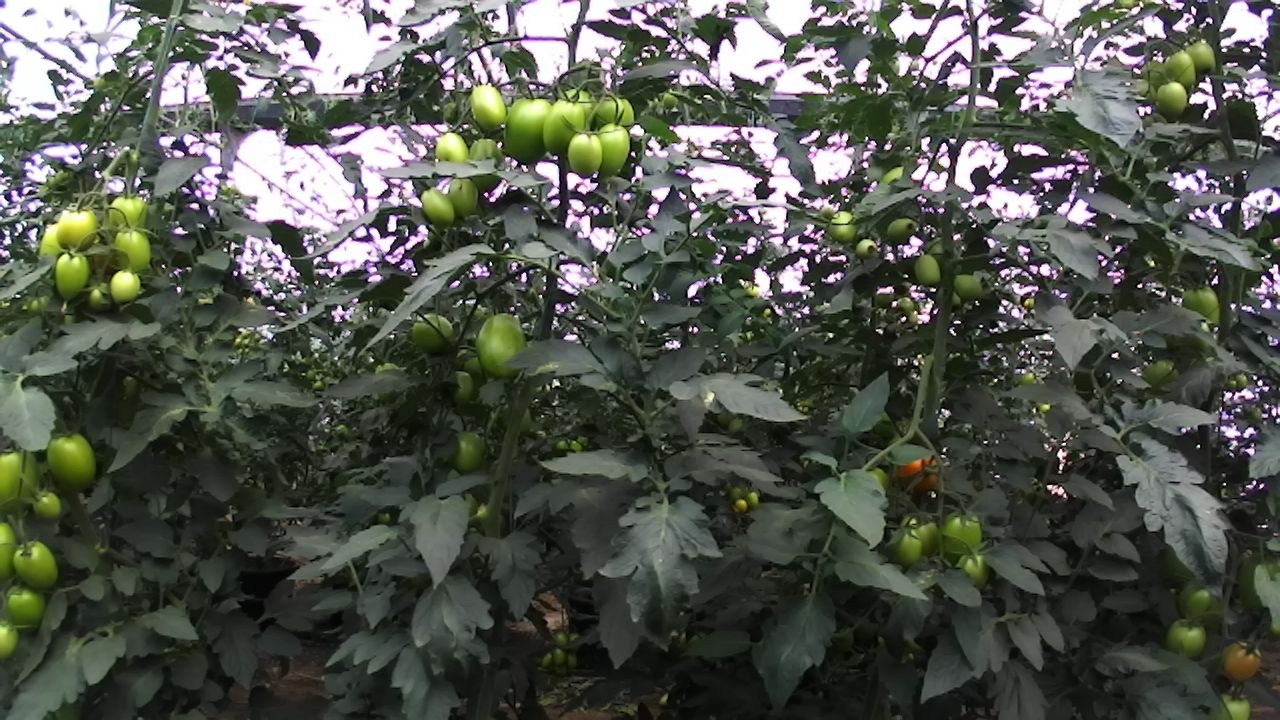tomato: (472, 296, 536, 393), (497, 85, 559, 171), (37, 427, 114, 496), (0, 434, 59, 519), (1206, 627, 1276, 691), (7, 534, 72, 599), (1174, 272, 1232, 341), (399, 304, 468, 361), (0, 577, 68, 633), (936, 499, 991, 565), (440, 423, 501, 482), (539, 93, 591, 162), (461, 133, 512, 203), (43, 244, 101, 305), (895, 504, 948, 566), (587, 116, 635, 184), (1159, 612, 1216, 668), (590, 91, 643, 151), (879, 515, 931, 576), (1171, 571, 1224, 630), (464, 78, 517, 136), (53, 198, 103, 256), (102, 186, 155, 240), (411, 183, 463, 233), (111, 224, 158, 277), (427, 124, 473, 178), (563, 129, 608, 182), (22, 484, 77, 527), (952, 546, 997, 595), (1153, 75, 1193, 129), (442, 170, 485, 220), (105, 260, 147, 309), (1179, 32, 1222, 79), (1159, 45, 1202, 89), (1211, 683, 1262, 720), (820, 205, 864, 247), (946, 268, 990, 307), (911, 250, 949, 293), (882, 212, 926, 249), (846, 230, 883, 264), (742, 488, 765, 512), (550, 626, 572, 649), (550, 644, 570, 669), (731, 495, 751, 516)
